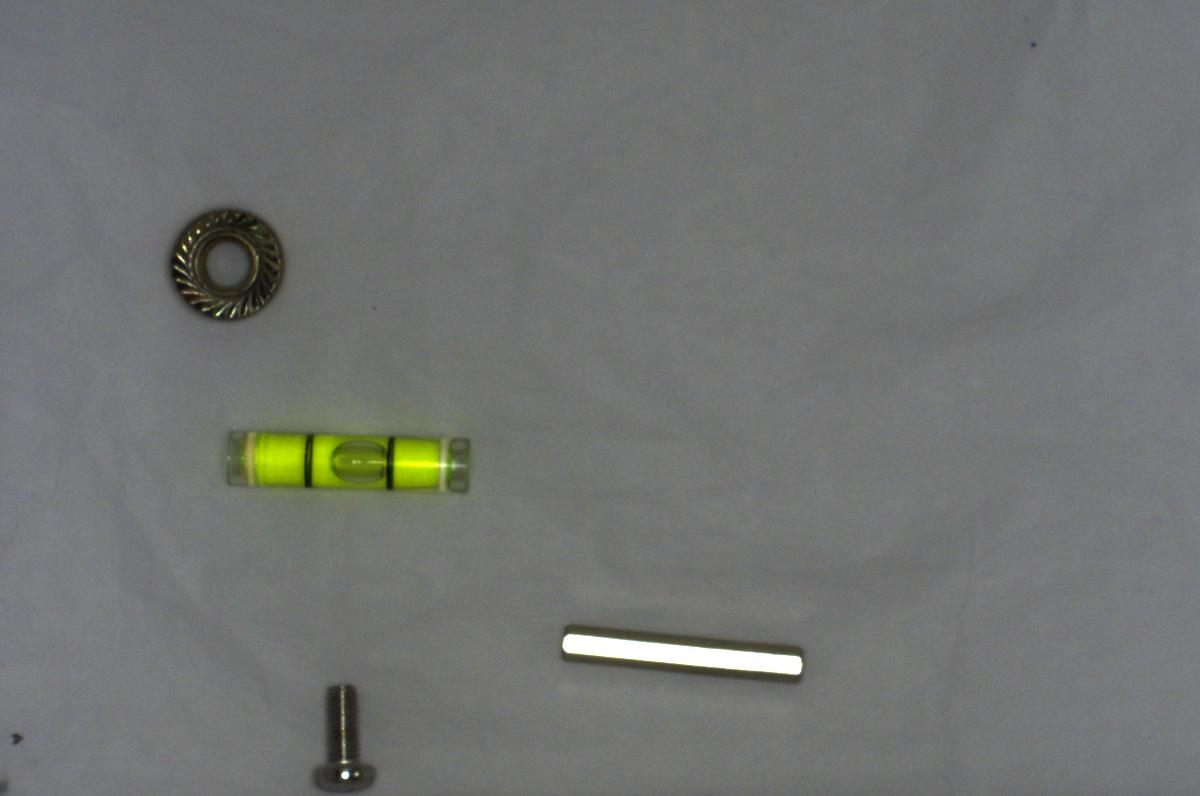Double hexagonal column: (550, 619, 815, 696)
Flange nut: (158, 205, 292, 327)
Horizontal bubble: (214, 421, 473, 502)
Round head screw: (301, 672, 387, 793)
